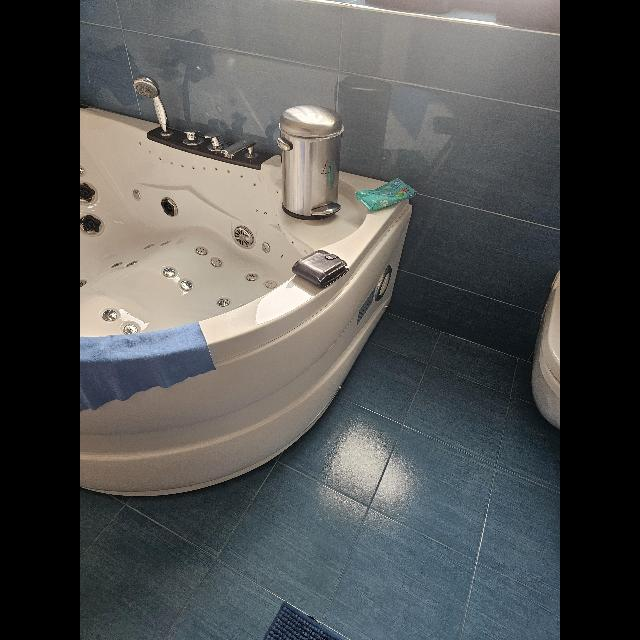Wallet: (292, 250, 350, 288)
